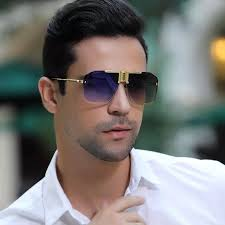g.y: (84, 70, 117, 105)
